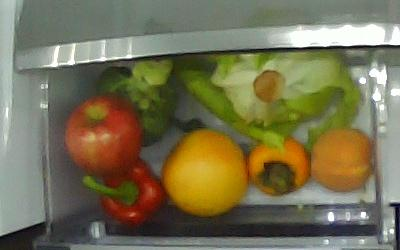apple: (64, 97, 141, 172)
broccoli: (97, 49, 178, 146)
cucumber: (173, 54, 288, 149)
grapefruit: (160, 130, 249, 216)
lettuce: (214, 52, 343, 123)
paprika: (81, 156, 164, 223)
peach: (310, 130, 373, 193)
persimmon: (246, 136, 310, 195)
